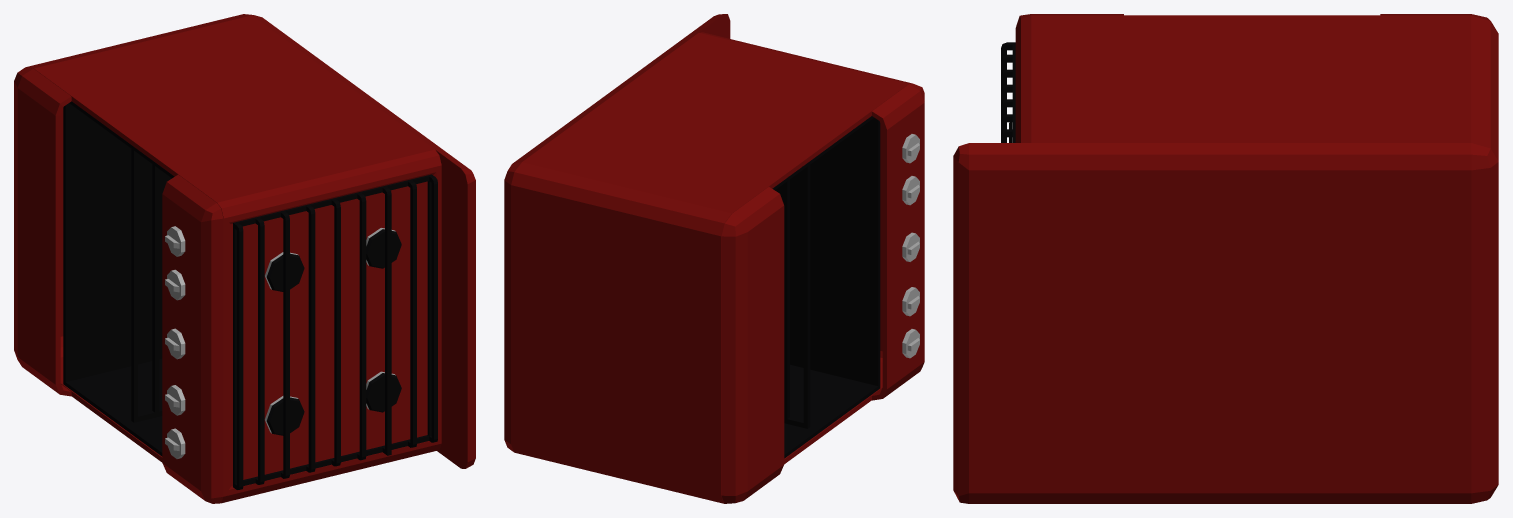
The model's file is corpus.obj.
3 renders of one model, left to right at view 1: azimuth 30°, elevation 25°; view 2: azimuth 150°, elevation 25°; view 3: azimuth 270°, elevation 25°, orthographic. The views are drawn at different scales.
Visible parts, largest first — view 1: Cube.097_Cube.125_basic_1, Cube.097_Cube.125_darck, Cube.097_Cube.125_basic_2; view 2: Cube.097_Cube.125_basic_1, Cube.097_Cube.125_darck, Cube.097_Cube.125_basic_2; view 3: Cube.097_Cube.125_basic_1, Cube.097_Cube.125_darck.
Part boxes in pixels (left/top/right/bottom): Cube.097_Cube.125_basic_1: left=14, top=14, right=475, bottom=503; Cube.097_Cube.125_darck: left=63, top=101, right=437, bottom=489; Cube.097_Cube.125_basic_2: left=165, top=226, right=395, bottom=458; Cube.097_Cube.125_basic_1: left=504, top=14, right=924, bottom=503; Cube.097_Cube.125_darck: left=772, top=116, right=880, bottom=458; Cube.097_Cube.125_basic_2: left=902, top=134, right=919, bottom=358; Cube.097_Cube.125_basic_1: left=953, top=14, right=1498, bottom=503; Cube.097_Cube.125_darck: left=1001, top=42, right=1015, bottom=142.
Bounding box in the file's own units: 0.1063 × 0.1172 × 0.1609.
